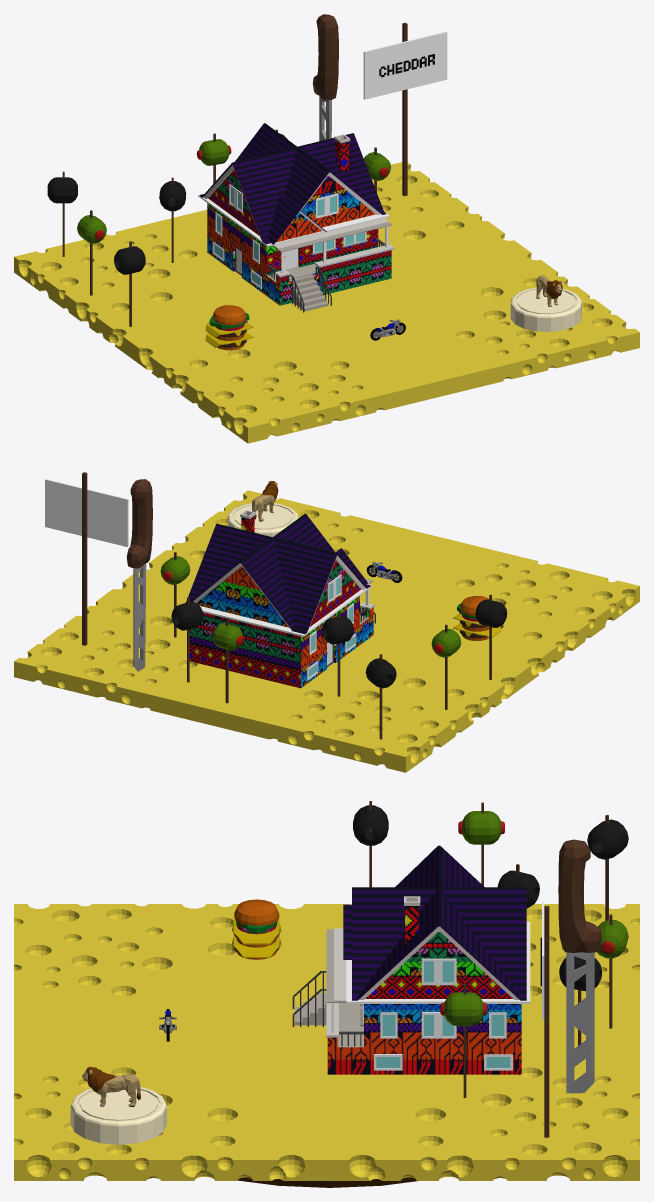
3 renders of one model, top to bottom at view 1: azimuth 30°, elevation 25°; view 2: azimuth 150°, elevation 25°; view 3: azimuth 270°, elevation 25°, orthographic. The views are drawn at different scales.
Parts seen in each view (by area): view 1: Cube.022, Cube.966, Cube.023, Cylinder.016, Cube.024, OBJRANDOM_HAMBURGER, Sphere.017, Sphere.016, Sphere.020, Sphere.018, Sphere.022, Sphere.019; view 2: Cube.022, Cube.966, Cube.023, Cube.024, Cylinder.016, OBJRANDOM_HAMBURGER, Sphere.020, Sphere.016, Sphere.022, Sphere.017, Sphere.021, Sphere.018 (+3 smaller); view 3: Cube.022, Cube.966, Cube.024, Cylinder.016, OBJRANDOM_HAMBURGER, Cube.023, Sphere.019, Sphere.016, Sphere.018, Sphere.017, ANIMAL_LEON, Sphere.022 (+3 smaller).
Boxes of the visible parts, <box> form: Cube.022: <box>14,162,639,443</box>; Cube.966: <box>198,123,394,312</box>; Cube.023: <box>363,22,447,196</box>; Cylinder.016: <box>510,287,581,331</box>; Cube.024: <box>312,14,338,141</box>; OBJRANDOM_HAMBURGER: <box>205,305,253,350</box>; Sphere.017: <box>114,241,145,326</box>; Sphere.016: <box>47,171,77,256</box>; Sphere.020: <box>159,177,186,262</box>; Sphere.018: <box>77,210,106,295</box>; Sphere.022: <box>196,133,231,183</box>; Sphere.019: <box>364,147,390,192</box>; Cube.022: <box>14,490,639,772</box>; Cube.966: <box>185,510,375,688</box>; Cube.023: <box>45,472,128,645</box>; Cube.024: <box>126,479,152,671</box>; Cylinder.016: <box>227,503,298,537</box>; OBJRANDOM_HAMBURGER: <box>453,596,500,640</box>; Sphere.020: <box>322,611,353,696</box>; Sphere.016: <box>365,654,396,739</box>; Sphere.022: <box>212,618,243,703</box>; Sphere.017: <box>475,594,507,679</box>; Sphere.021: <box>171,597,203,682</box>; Sphere.018: <box>431,624,461,709</box>; Cube.022: <box>14,904,639,1180</box>; Cube.966: <box>292,845,530,1074</box>; Cube.024: <box>558,839,601,1093</box>; Cylinder.016: <box>70,1086,166,1144</box>; OBJRANDOM_HAMBURGER: <box>232,899,281,959</box>; Cube.023: <box>540,902,549,1137</box>; Sphere.019: <box>440,984,487,1097</box>; Sphere.016: <box>587,815,628,920</box>; Sphere.018: <box>458,802,504,885</box>; Sphere.017: <box>353,801,388,887</box>; ANIMAL_LEON: <box>82,1066,140,1107</box>; Sphere.022: <box>597,914,628,1028</box>.
Size of the model in its own units: 3917 by 2073 by 4000.
43 materials, 7 textured.
